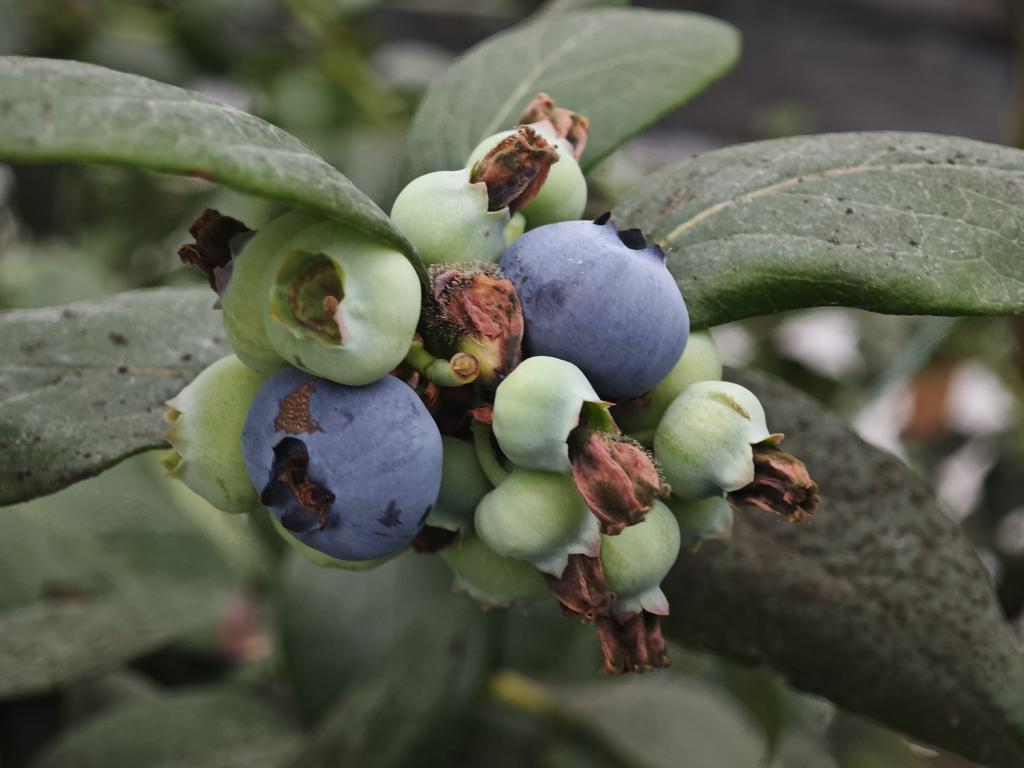RipeBlueBerry: (240, 362, 451, 566), (499, 209, 692, 400)
UnripeBlueBerry: (258, 222, 423, 387), (490, 350, 633, 481), (652, 379, 789, 512)
